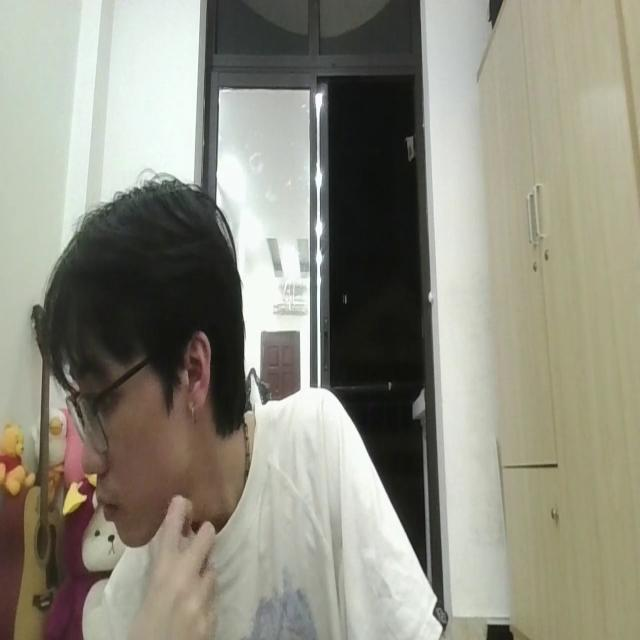student: (40, 166, 442, 640)
